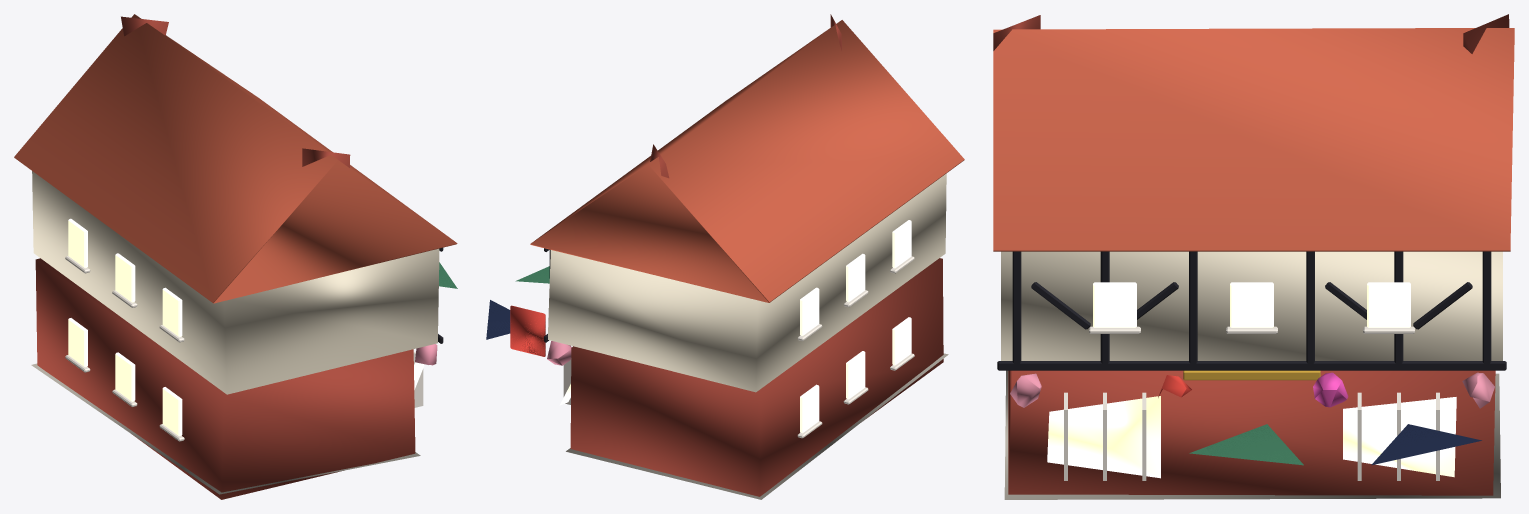
Rendered from village_inn.glb.
3 renders of one model, left to right at view 1: azimuth 30°, elevation 25°; view 2: azimuth 150°, elevation 25°; view 3: azimuth 270°, elevation 25°, orthographic. The views are drawn at different scales.
Parts seen in each view (by area): view 1: village_inn; view 2: village_inn; view 3: village_inn.
Boxes of the visible parts, left/top/right/bottom form: village_inn: left=14, top=14, right=457, bottom=499; village_inn: left=486, top=14, right=964, bottom=499; village_inn: left=993, top=14, right=1514, bottom=499.
Size of the model in its own units: 10.38 by 9.44 by 10.65.
1 material, 1 textured.
